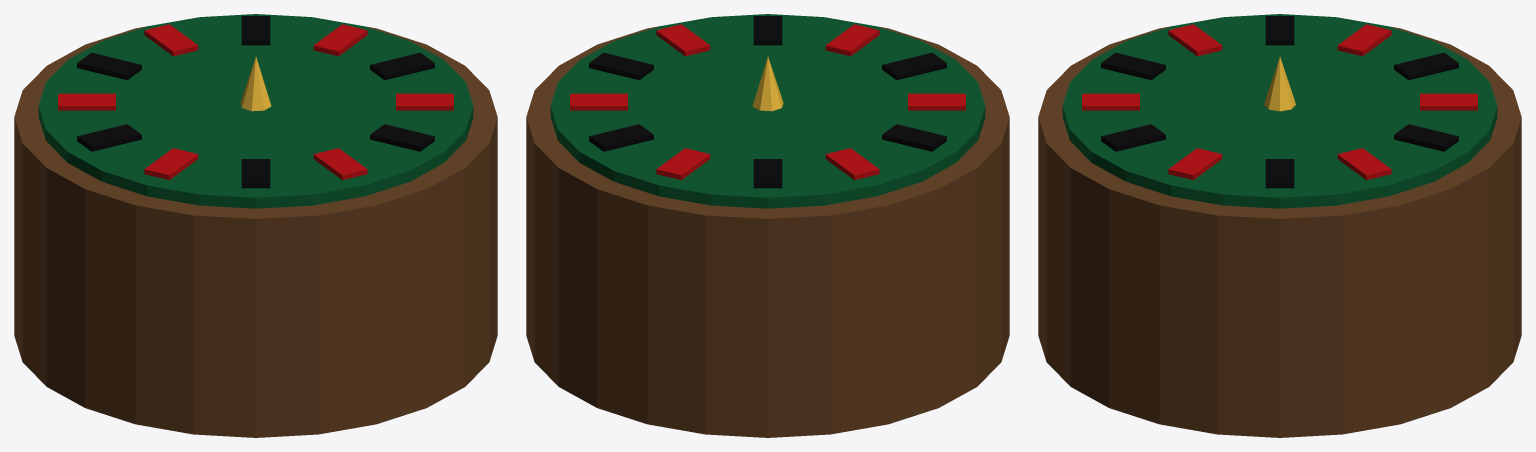
The model's file is Prop_OR_Roulette_06.glb.
3 renders of one model, left to right at view 1: azimuth 30°, elevation 25°; view 2: azimuth 150°, elevation 25°; view 3: azimuth 270°, elevation 25°, orthographic.
Parts seen in each view (by area): view 1: Prop_OR_Roulette_06; view 2: Prop_OR_Roulette_06; view 3: Prop_OR_Roulette_06.
Boxes of the visible parts, x1=… form: Prop_OR_Roulette_06: x1=14, y1=14, x2=497, y2=437; Prop_OR_Roulette_06: x1=526, y1=14, x2=1009, y2=437; Prop_OR_Roulette_06: x1=1038, y1=14, x2=1521, y2=437.
Size of the model in its own units: 1.8 by 1.15 by 1.8.
